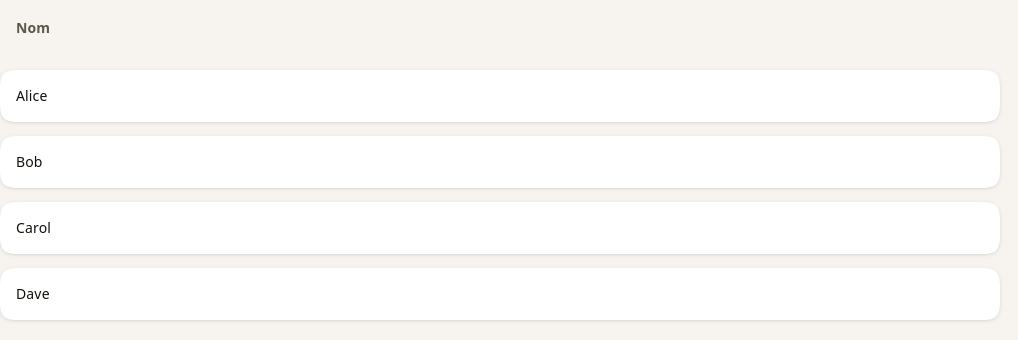
useRowSelection — colonne de cases à cocher › masque la colonne tant qu'aucune ligne n'est sélectionnée
Click the text "Alice" at {"x": 32, "y": 96}, box x1=0 y1=70 x2=1000 y2=122
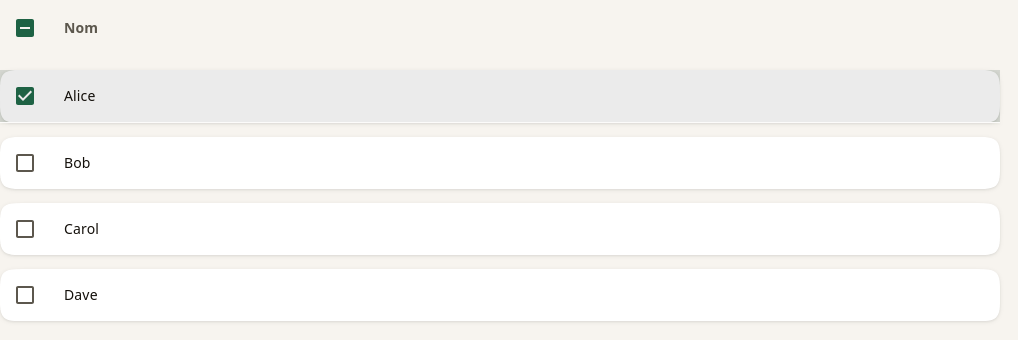
Expected: the checkbox named "Tout sélectionner" is shown, x1=13 y1=16 x2=37 y2=40
